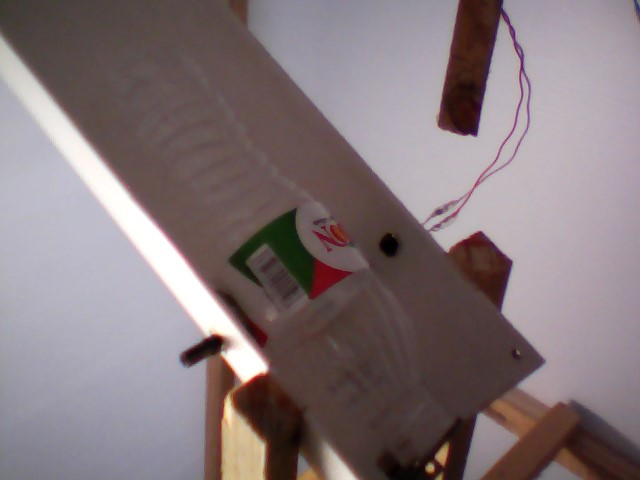plastico: (51, 33, 453, 464)
